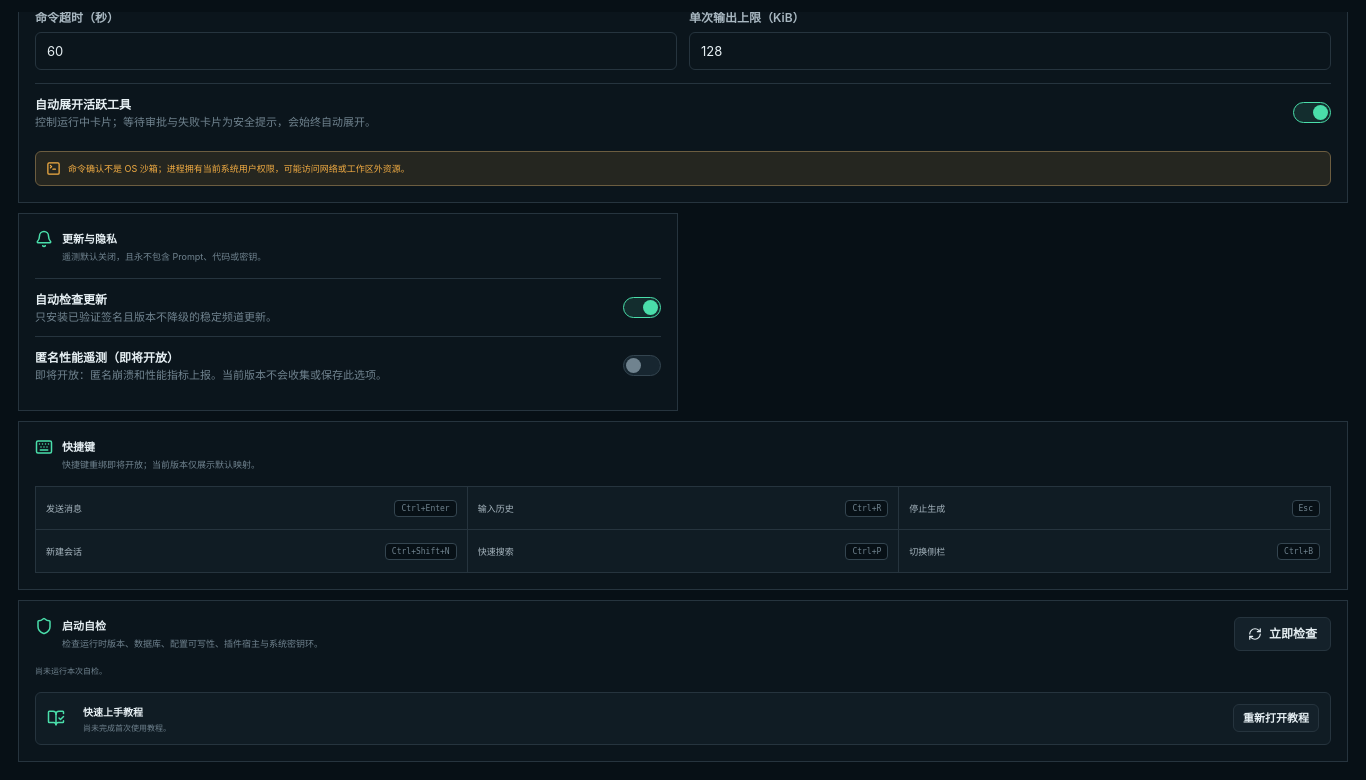
Test case: SettingsPage › 运行启动自检并区分通过项与警告项
(page scrolled)
Step 1. Click the button "立即检查" → (1282, 634), box [1234, 617, 1331, 651]
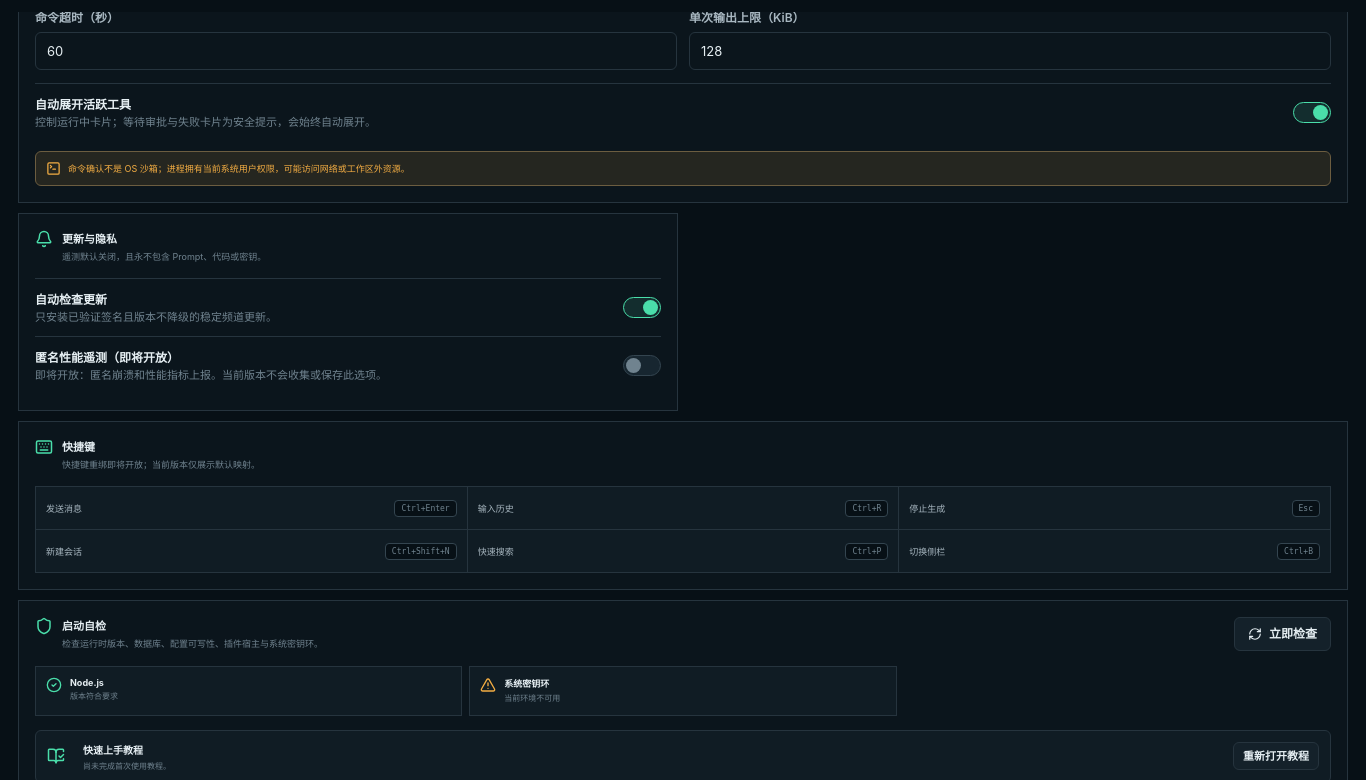
Result: the text "版本符合要求" is shown at [70, 691, 118, 703]
Result: the text "当前环境不可用" is shown at [504, 693, 560, 705]
Result: the text "Node.js" is shown at [70, 677, 104, 688]
